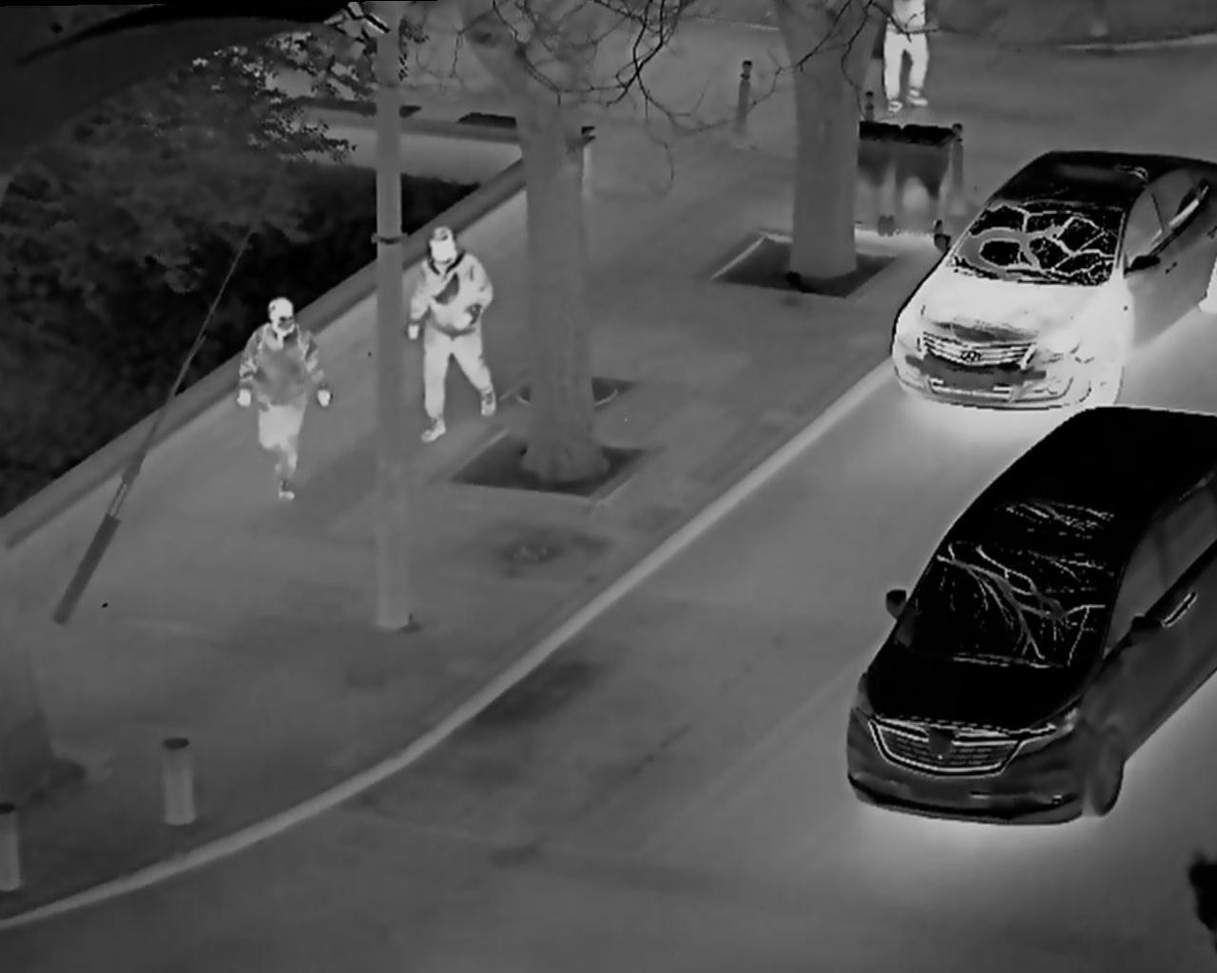person: (400, 221, 506, 444), (234, 291, 334, 506), (878, 5, 939, 122)
